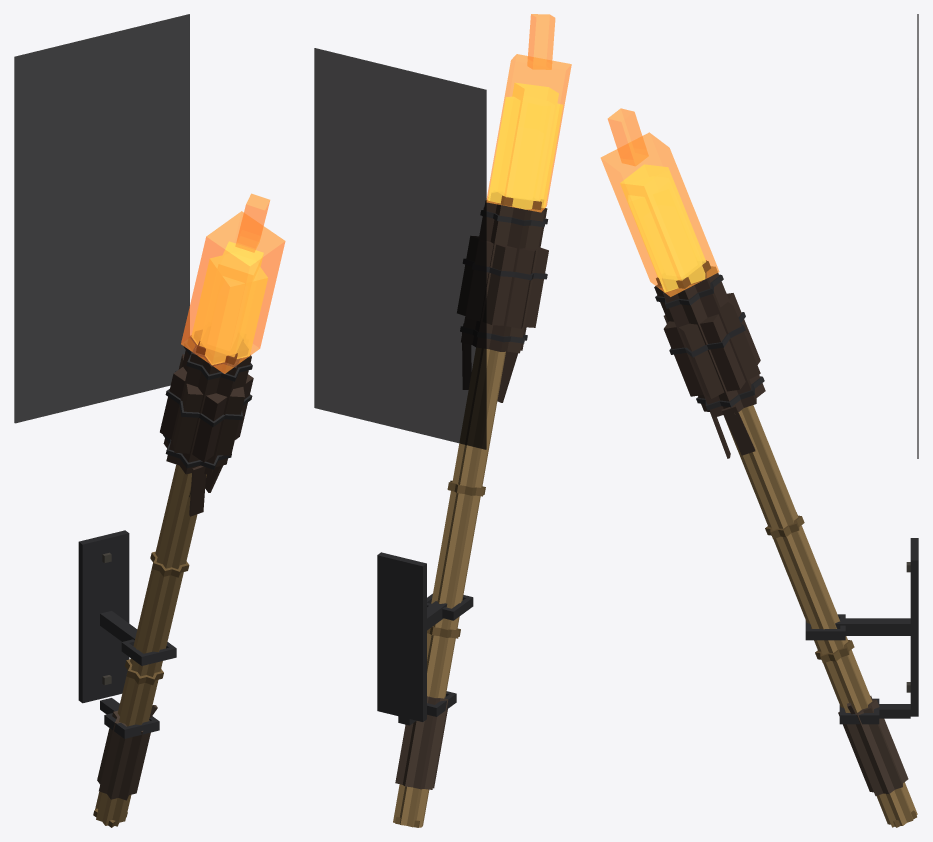
Rendered from moshal_wall_lit.glb.
3 views of the same model, side by side, from view 1: azimuth 30°, elevation 25°; view 2: azimuth 150°, elevation 25°; view 3: azimuth 270°, elevation 25° (orthographic).
Parts seen in each view (by area): view 1: MoshalBracket, Moshal, Flame; view 2: MoshalBracket, Moshal, Flame; view 3: Moshal, Flame, MoshalBracket.
Boxes of the visible parts, left/top/right/bottom form: MoshalBracket: left=14, top=14, right=189, bottom=738; Moshal: left=93, top=336, right=253, bottom=827; Flame: left=181, top=193, right=285, bottom=373; MoshalBracket: left=314, top=48, right=486, bottom=725; Moshal: left=393, top=195, right=548, bottom=827; Flame: left=486, top=14, right=571, bottom=212; Moshal: left=654, top=260, right=917, bottom=827; Flame: left=600, top=108, right=719, bottom=296; MoshalBracket: left=805, top=14, right=918, bottom=724.
Size of the model in its own units: 0.3 by 1.28 by 0.4795.
